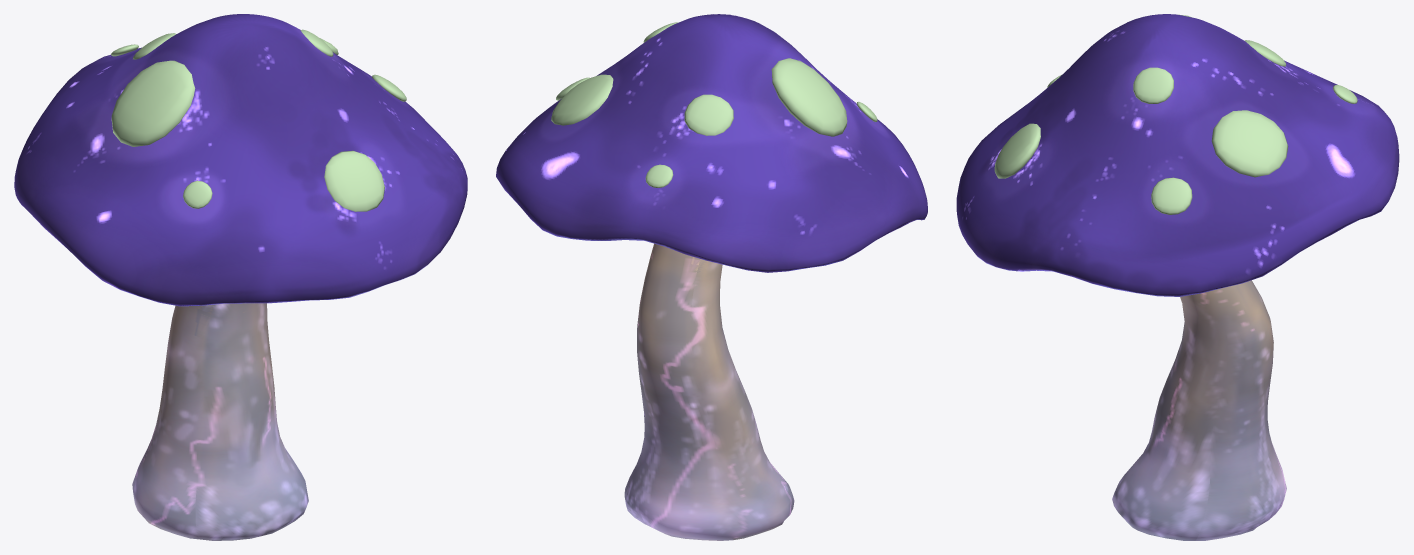
Rendered from glowshroom.fbx.
3 views of the same model, side by side, from view 1: azimuth 30°, elevation 25°; view 2: azimuth 150°, elevation 25°; view 3: azimuth 270°, elevation 25° (orthographic). The views are drawn at different scales.
Parts seen in each view (by area): view 1: Sphere, Cylinder, Sphere.016; view 2: Sphere, Cylinder, Sphere.016; view 3: Sphere, Cylinder, Sphere.016.
Boxes of the visible parts, x1,y1,x2,y2 form: Sphere: [14, 14, 467, 306]; Cylinder: [132, 303, 308, 540]; Sphere.016: [111, 29, 406, 211]; Sphere: [496, 14, 927, 272]; Cylinder: [624, 243, 794, 540]; Sphere.016: [551, 22, 877, 187]; Sphere: [956, 14, 1399, 296]; Cylinder: [1112, 280, 1286, 540]; Sphere.016: [994, 14, 1357, 214].
Size of the model in its own units: 197 by 242 by 195.
